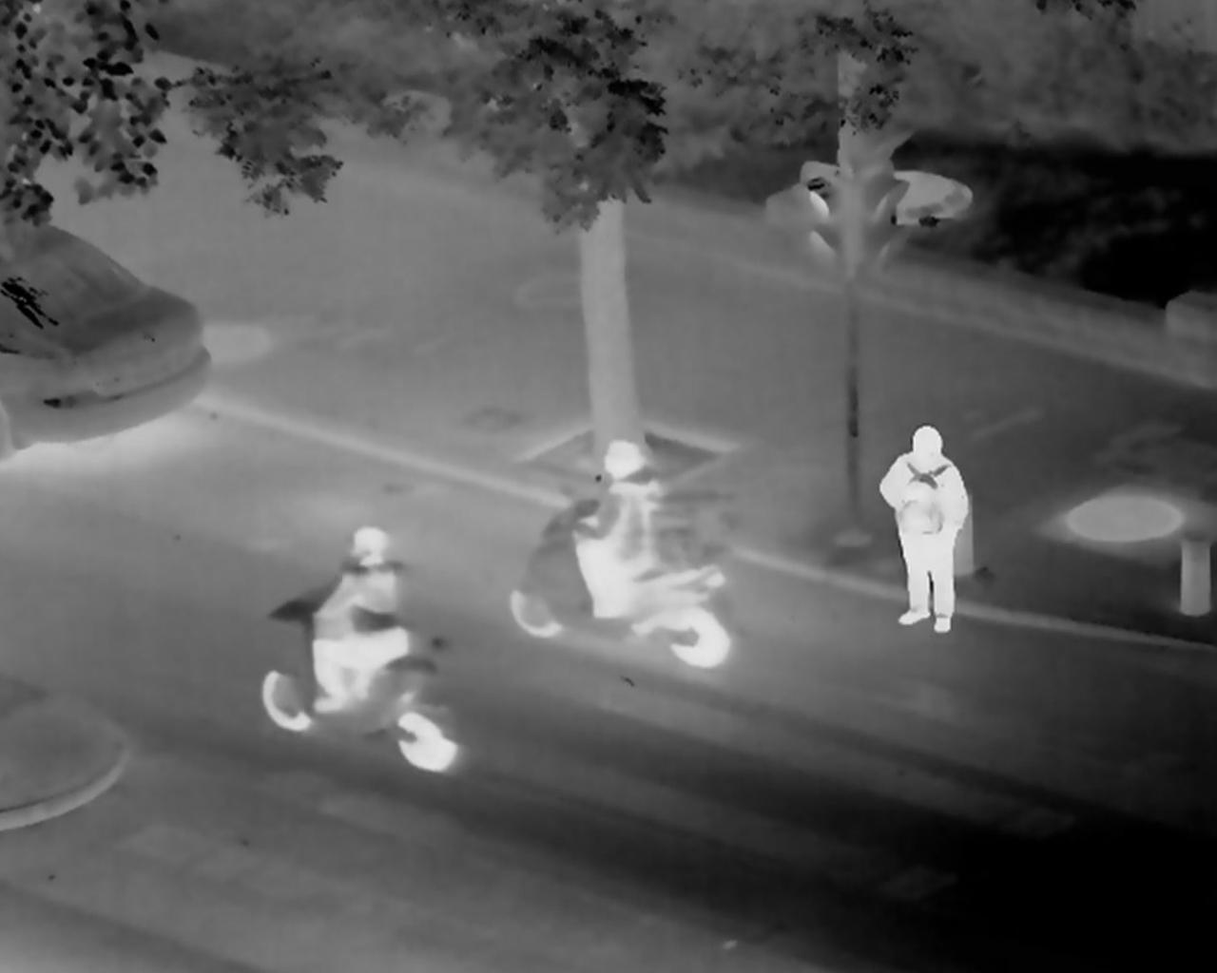person: (303, 522, 407, 720), (569, 434, 669, 638), (876, 428, 966, 631)
